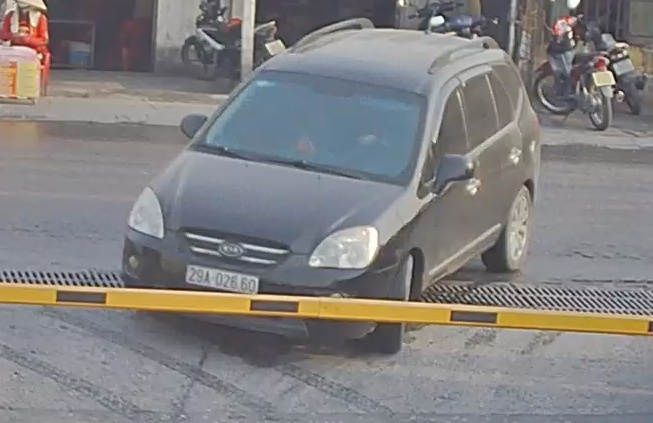vehicle plate: (183, 260, 266, 295)
